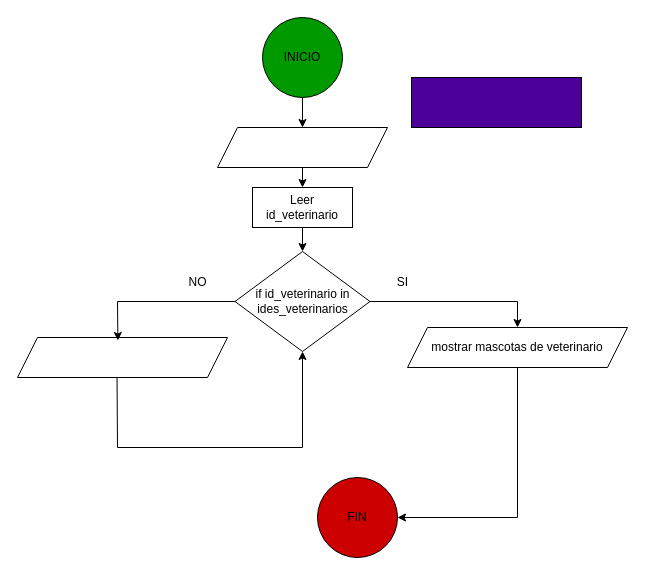
The diagram is 645 pixels wide and 575 high, and some of its shapes have lost their labels. Here are the shapes that lost their labels. From the top down, the box of each, then its label:
(410, 76, 582, 128): BUSCAR MASCOTAS DE VETERINARIO
(216, 126, 388, 168): Solicitar id_veterinario
(16, 336, 228, 378): "Error, ese id_veterinario no se encuentra"
